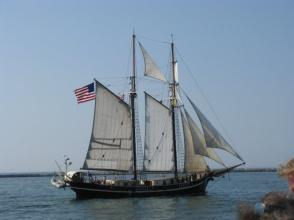fanchuan: (55, 31, 241, 196)
